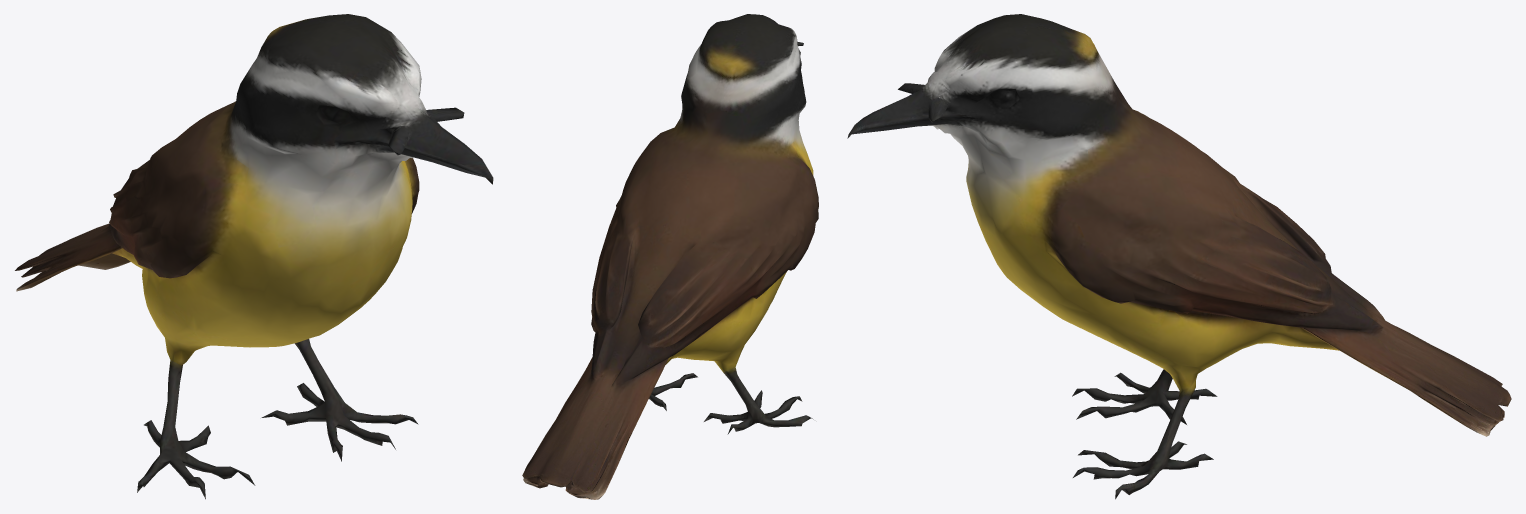
Rendered from ave_pitangus_sulphuratus.fbx.
The picture shows the model from 3 angles, left to right: view 1: azimuth 30°, elevation 25°; view 2: azimuth 150°, elevation 25°; view 3: azimuth 270°, elevation 25°; orthographic projection. The views are drawn at different scales.
Visible parts, largest first — view 1: tripo_node_d3ee3968; view 2: tripo_node_d3ee3968; view 3: tripo_node_d3ee3968.
Part boxes in pixels (x1,y1,x2,y2): tripo_node_d3ee3968: (15,14,493,499); tripo_node_d3ee3968: (522,14,818,499); tripo_node_d3ee3968: (847,14,1511,499).
Bounding box in the file's own units: 45.91 × 73.65 × 105.
1 material, 1 textured.
